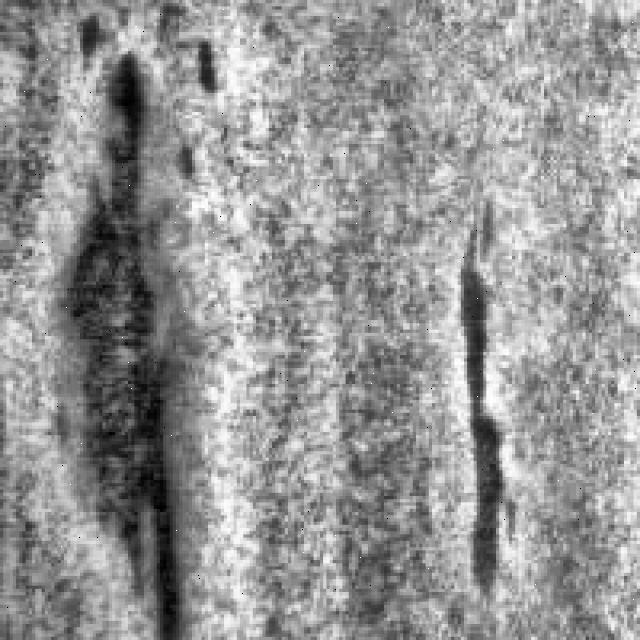Patches: (60, 35, 202, 634), (448, 192, 531, 621), (186, 32, 237, 106)
